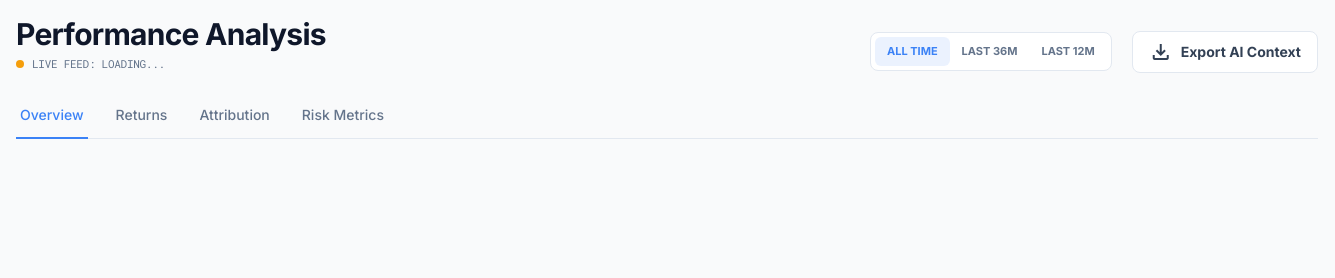
Scenario: Performance Risk Metrics Guards › isolates backend error payload and does not render risk cards
Click the button "Risk Metrics": (343, 122) [298,104,388,138]
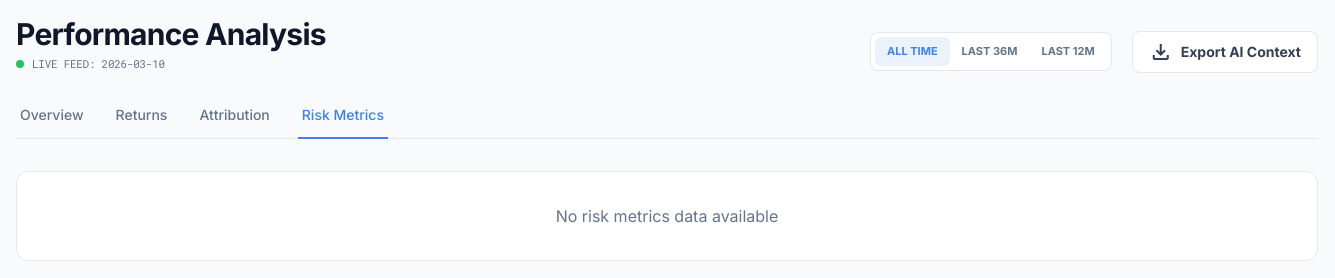
Expected: the heading "Performance Analysis" is shown, [16,16,326,52]
Result: the text "No risk metrics data available" is shown at [16,170,1318,260]
